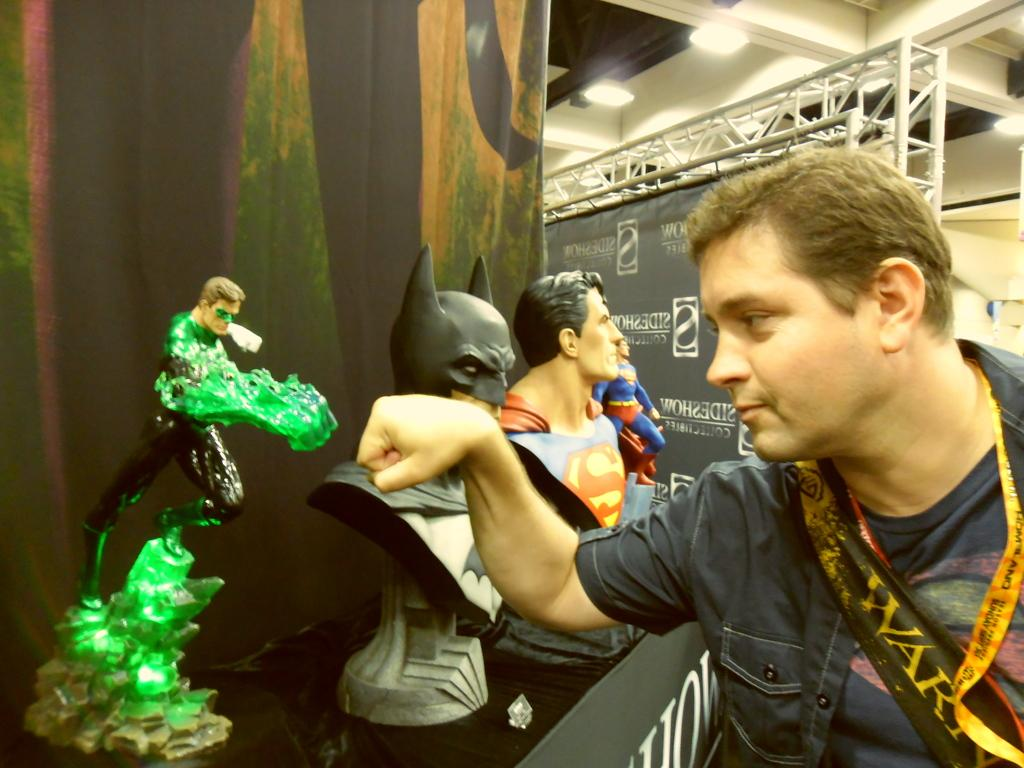Sem Máscara: (692, 211, 925, 458), (572, 284, 617, 376), (204, 294, 236, 330)
